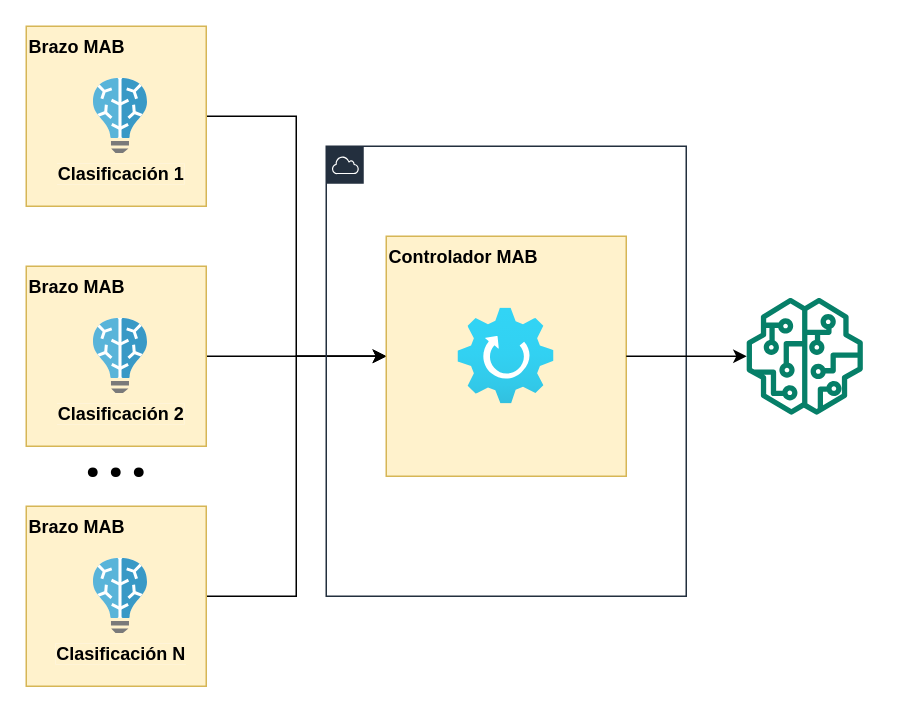
Some shapes in this 917 by 713 pixel diagram are drawn without their labels. The box of each missing label's shape, as (x1, y1, x2, y2) in pixels:
Apolo: Capa MAB: (325, 145, 686, 596)
Clasificador Óptimo: (746, 297, 862, 414)
Muestreo de Thompson: (458, 308, 554, 404)
